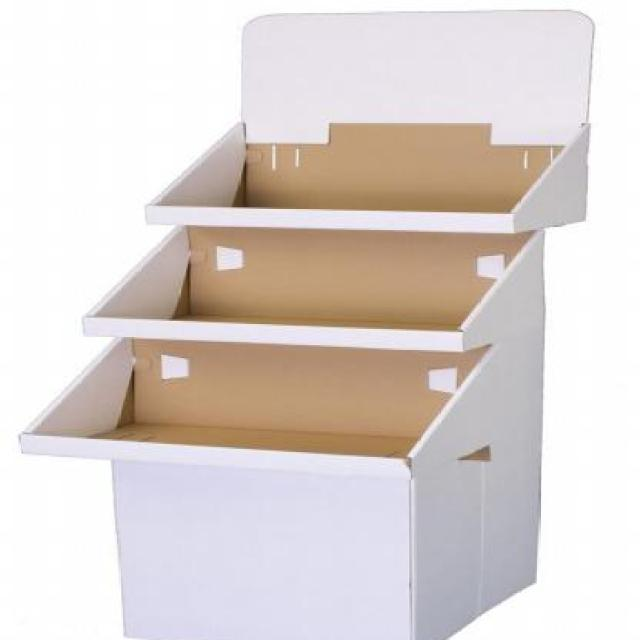box: (5, 0, 637, 640)
